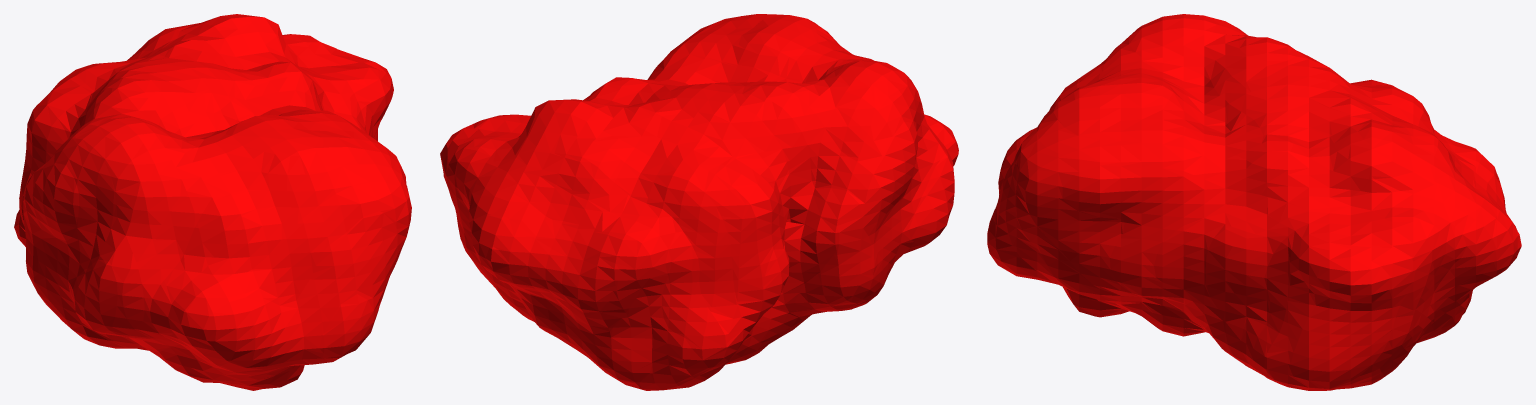
Rendered from mtnN_coarse.dae.
3 renders of one model, left to right at view 1: azimuth 30°, elevation 25°; view 2: azimuth 150°, elevation 25°; view 3: azimuth 270°, elevation 25°, orthographic. The views are drawn at different scales.
Parts seen in each view (by area): view 1: mtnN; view 2: mtnN; view 3: mtnN.
Part boxes in pixels (bbox=[...]): mtnN: bbox=[14, 14, 411, 390]; mtnN: bbox=[440, 14, 958, 390]; mtnN: bbox=[987, 14, 1521, 390].
Bounding box in the file's own units: 64.56 × 40.34 × 74.12.
